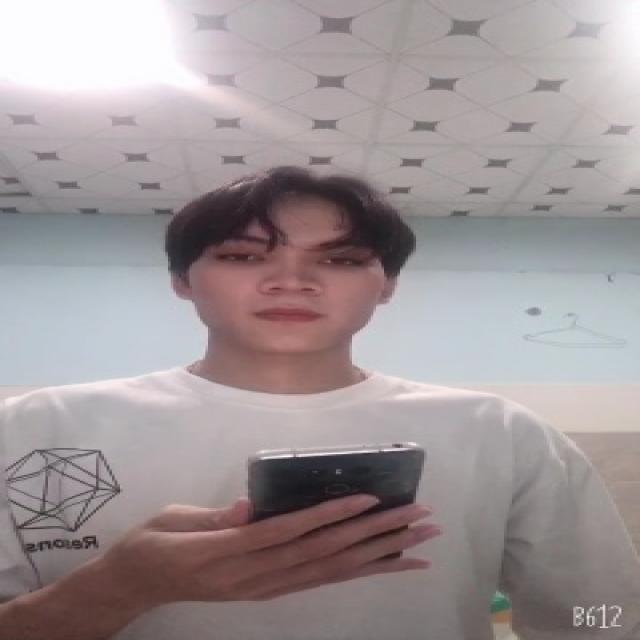Phone: (244, 441, 426, 563)
